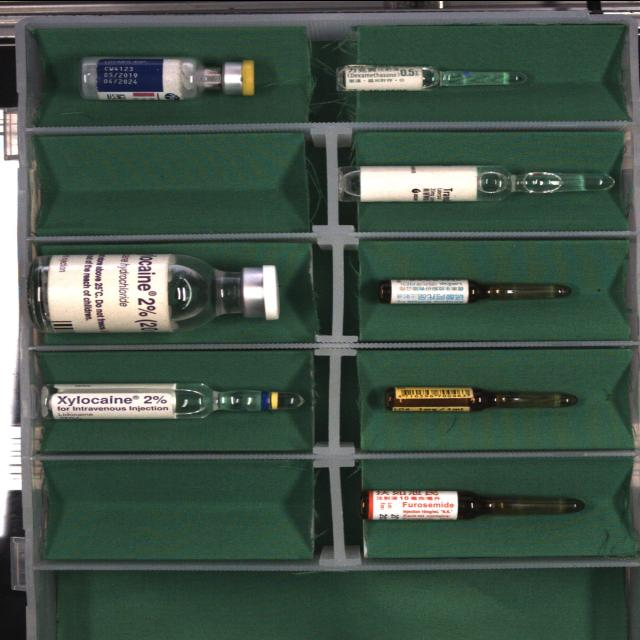Vials: (29, 252, 279, 332), (80, 56, 254, 99)
